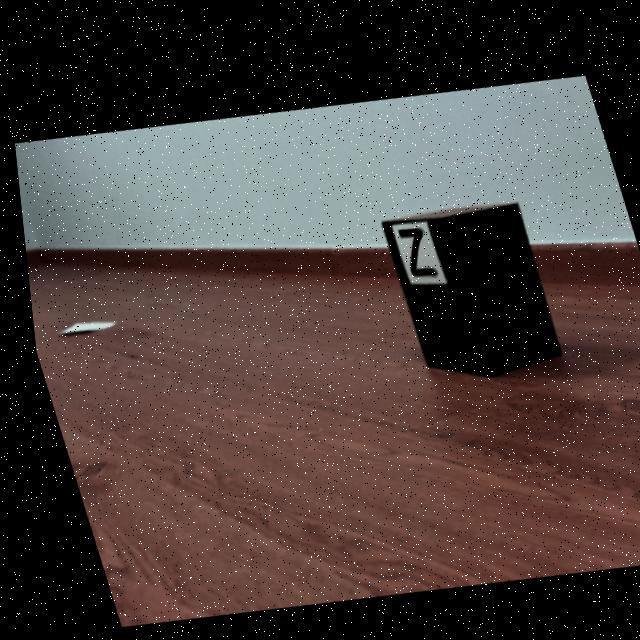Z: (394, 220, 431, 269)
